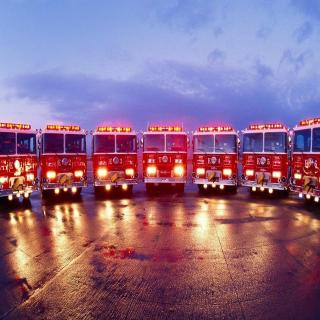Fire_truck: (240, 123, 292, 196), (37, 125, 88, 197), (140, 122, 190, 191), (90, 126, 140, 194), (191, 126, 241, 192), (0, 122, 40, 201), (290, 117, 320, 203)
